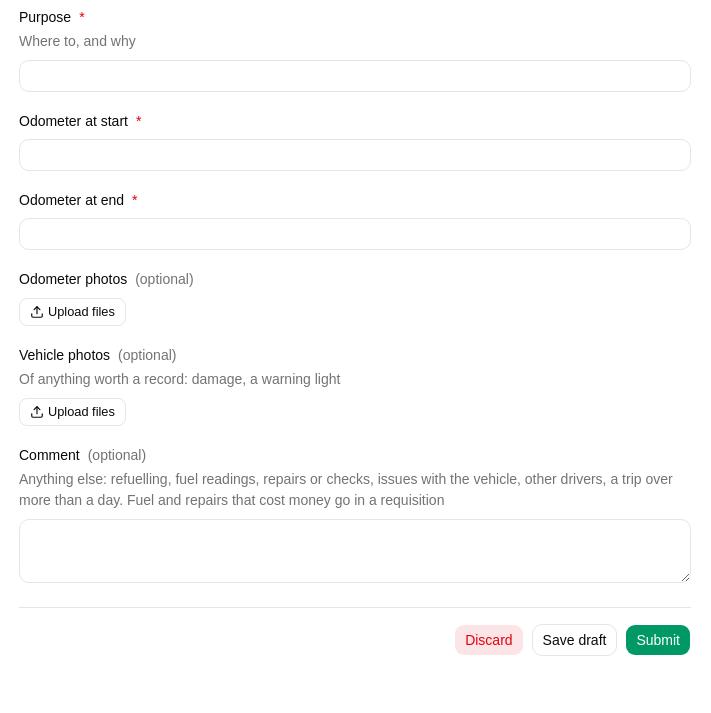
it: what's missing is said by its question, and nothing is sent
The width and height of the screenshot is (711, 713).
(page scrolled)
Click the button "Submit" at (658, 640), box [625,624,691,656]
(page scrolled)
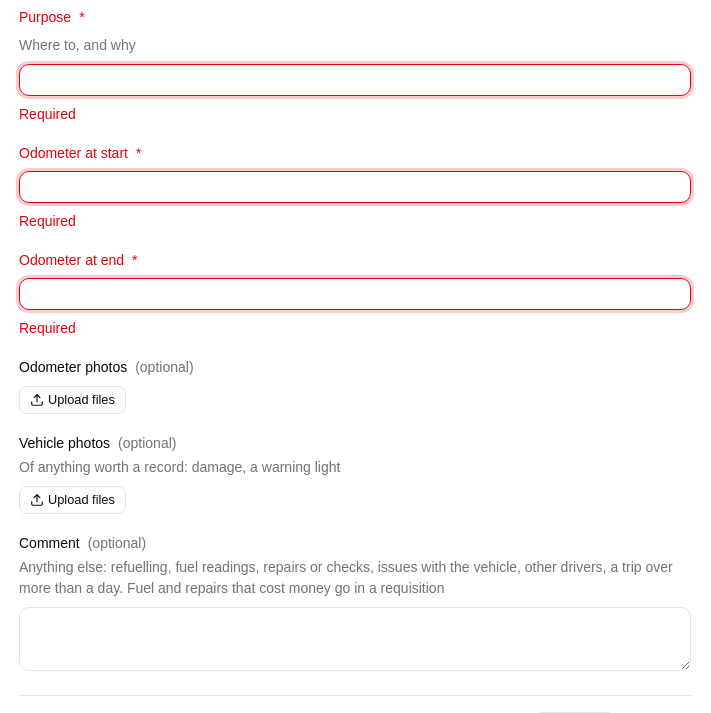
Check: the text "Required" below "Where to, and why" is shown, box [19,106,76,122]
